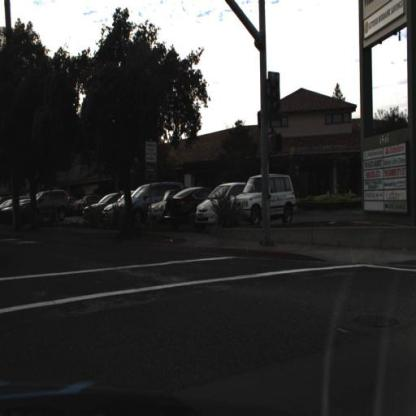car: (237, 175, 299, 223), (197, 181, 247, 223), (122, 184, 164, 225), (166, 183, 211, 220), (161, 187, 209, 220), (33, 192, 73, 228), (84, 189, 124, 222), (150, 188, 178, 226), (104, 191, 133, 220), (11, 194, 32, 228), (3, 195, 19, 219)
